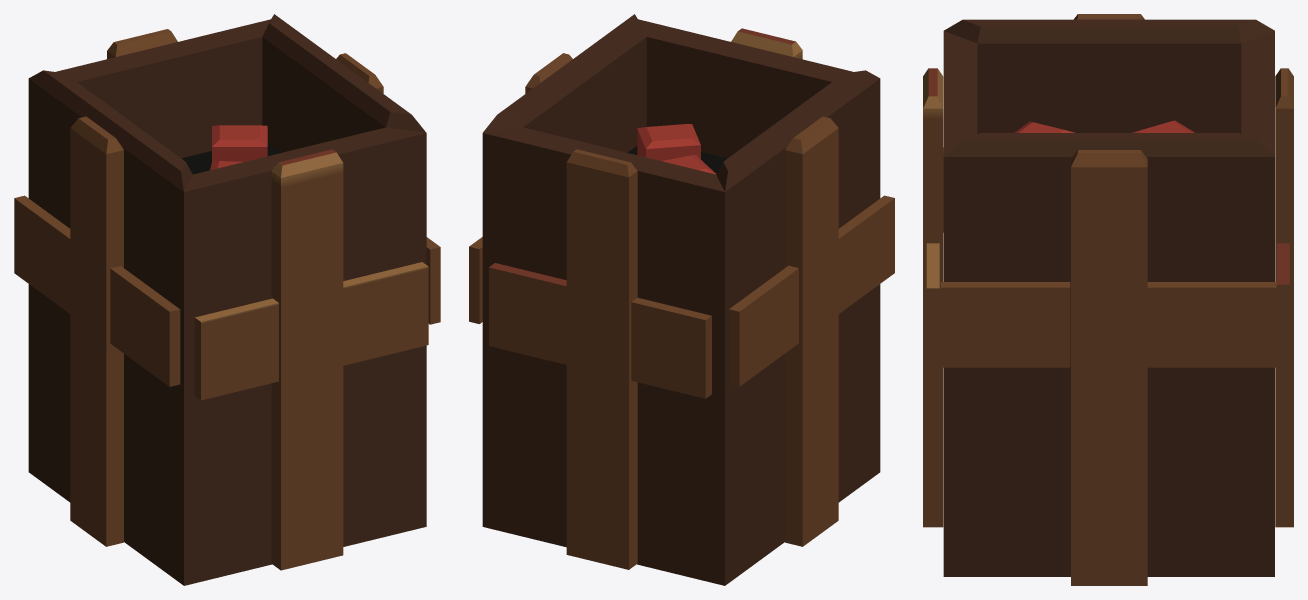
File: BoxCore2.fbx
3 views of the same model, side by side, from view 1: azimuth 30°, elevation 25°; view 2: azimuth 150°, elevation 25°; view 3: azimuth 270°, elevation 25° (orthographic). The views are drawn at different scales.
Visible parts, largest first — view 1: Cube.037; view 2: Cube.037; view 3: Cube.037.
Part boxes in pixels (bbox=[...]): Cube.037: bbox=[14, 14, 440, 585]; Cube.037: bbox=[469, 14, 894, 585]; Cube.037: bbox=[923, 14, 1293, 585].
Bounding box in the file's own units: 1.08 × 1.51 × 1.17.
